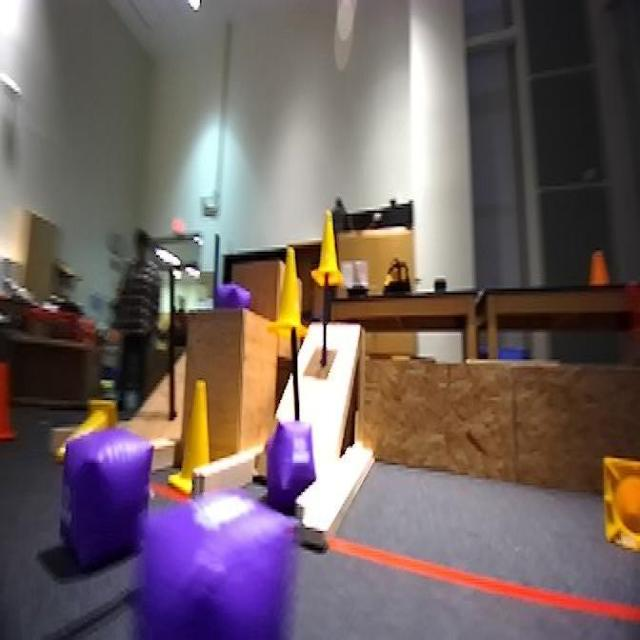frc_cone: (168, 371, 222, 497), (602, 455, 640, 553), (272, 242, 306, 337), (66, 404, 106, 456), (316, 216, 340, 291)
frc_cube: (119, 483, 303, 640), (54, 431, 141, 568), (263, 419, 316, 514), (210, 284, 241, 313)
